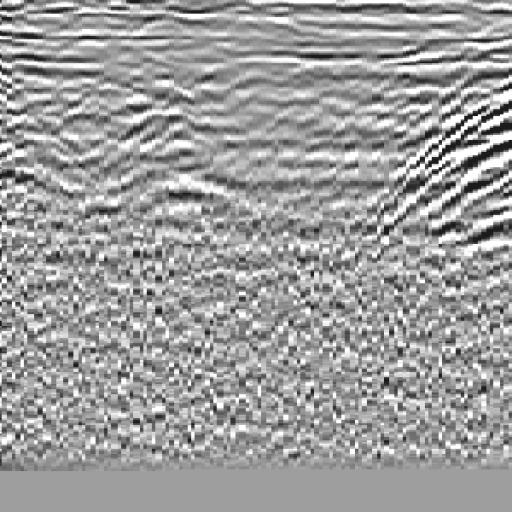metalic: (90, 43, 230, 274)
nonmetalic: (366, 52, 512, 265)
